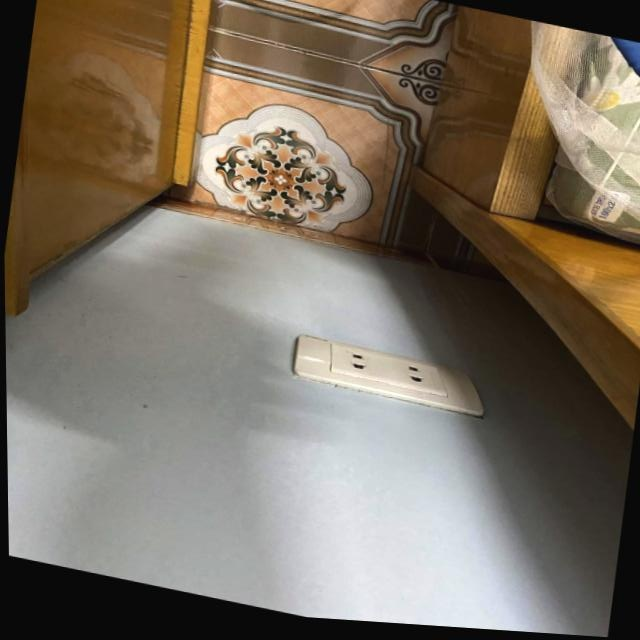outlet: (290, 331, 490, 419)
